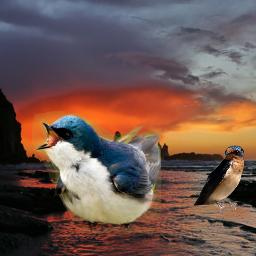Swallow: (32, 111, 161, 233), (193, 145, 244, 212)
